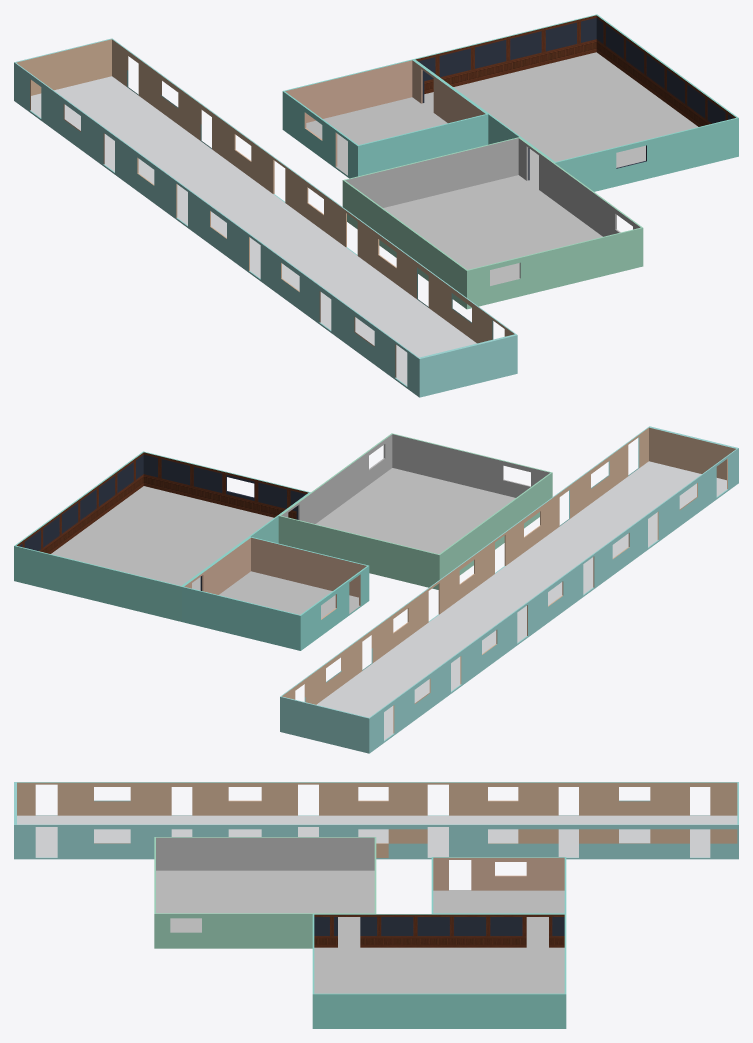
Rendered from MapaPrueba4.fbx.
3 renders of one model, top to bottom at view 1: azimuth 30°, elevation 25°; view 2: azimuth 150°, elevation 25°; view 3: azimuth 270°, elevation 25°, orthographic. The views are drawn at different scales.
Visible parts, largest first — view 1: Vagon, Galeria, Sala, Cuarto; view 2: Vagon, Galeria, Sala, Cuarto; view 3: Vagon, Galeria, Sala, Cuarto.
Part boxes in pixels (x1,y1,x2,y2): Vagon: (14,38,517,397); Galeria: (413,14,738,191); Sala: (342,137,643,309); Cuarto: (282,59,488,178); Vagon: (280,426,738,753); Galeria: (14,451,310,621); Sala: (278,433,552,589); Cuarto: (182,536,369,650); Vagon: (14,782,738,859); Galeria: (312,914,566,1028); Sala: (154,837,376,948); Cuarto: (431,857,566,946).
Bounding box in the file's own units: 3170 × 240 × 4576.
